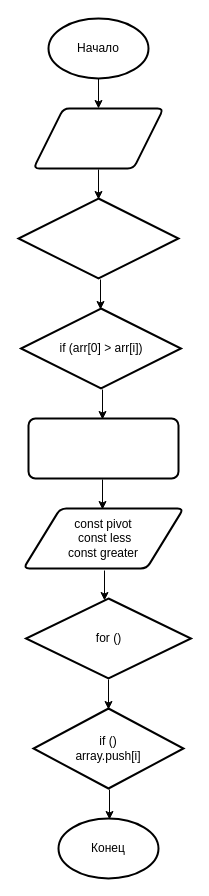
Image size: 209x896. Some labels were removed from this diagram. The box of each missing label's shape, as (x1, y1, x2, y2) in pixels:
arr[0],arr[i] = arr[i],arr[0]: (27, 417, 179, 479)
arrQuick = []: (32, 107, 164, 169)
if (arr.length -1): (17, 197, 179, 279)
